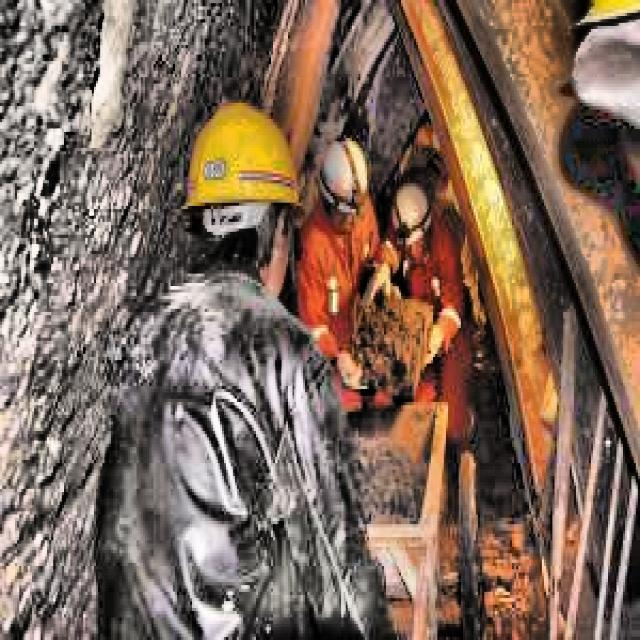helmet: (179, 96, 303, 296), (320, 126, 371, 225), (390, 174, 440, 260)
